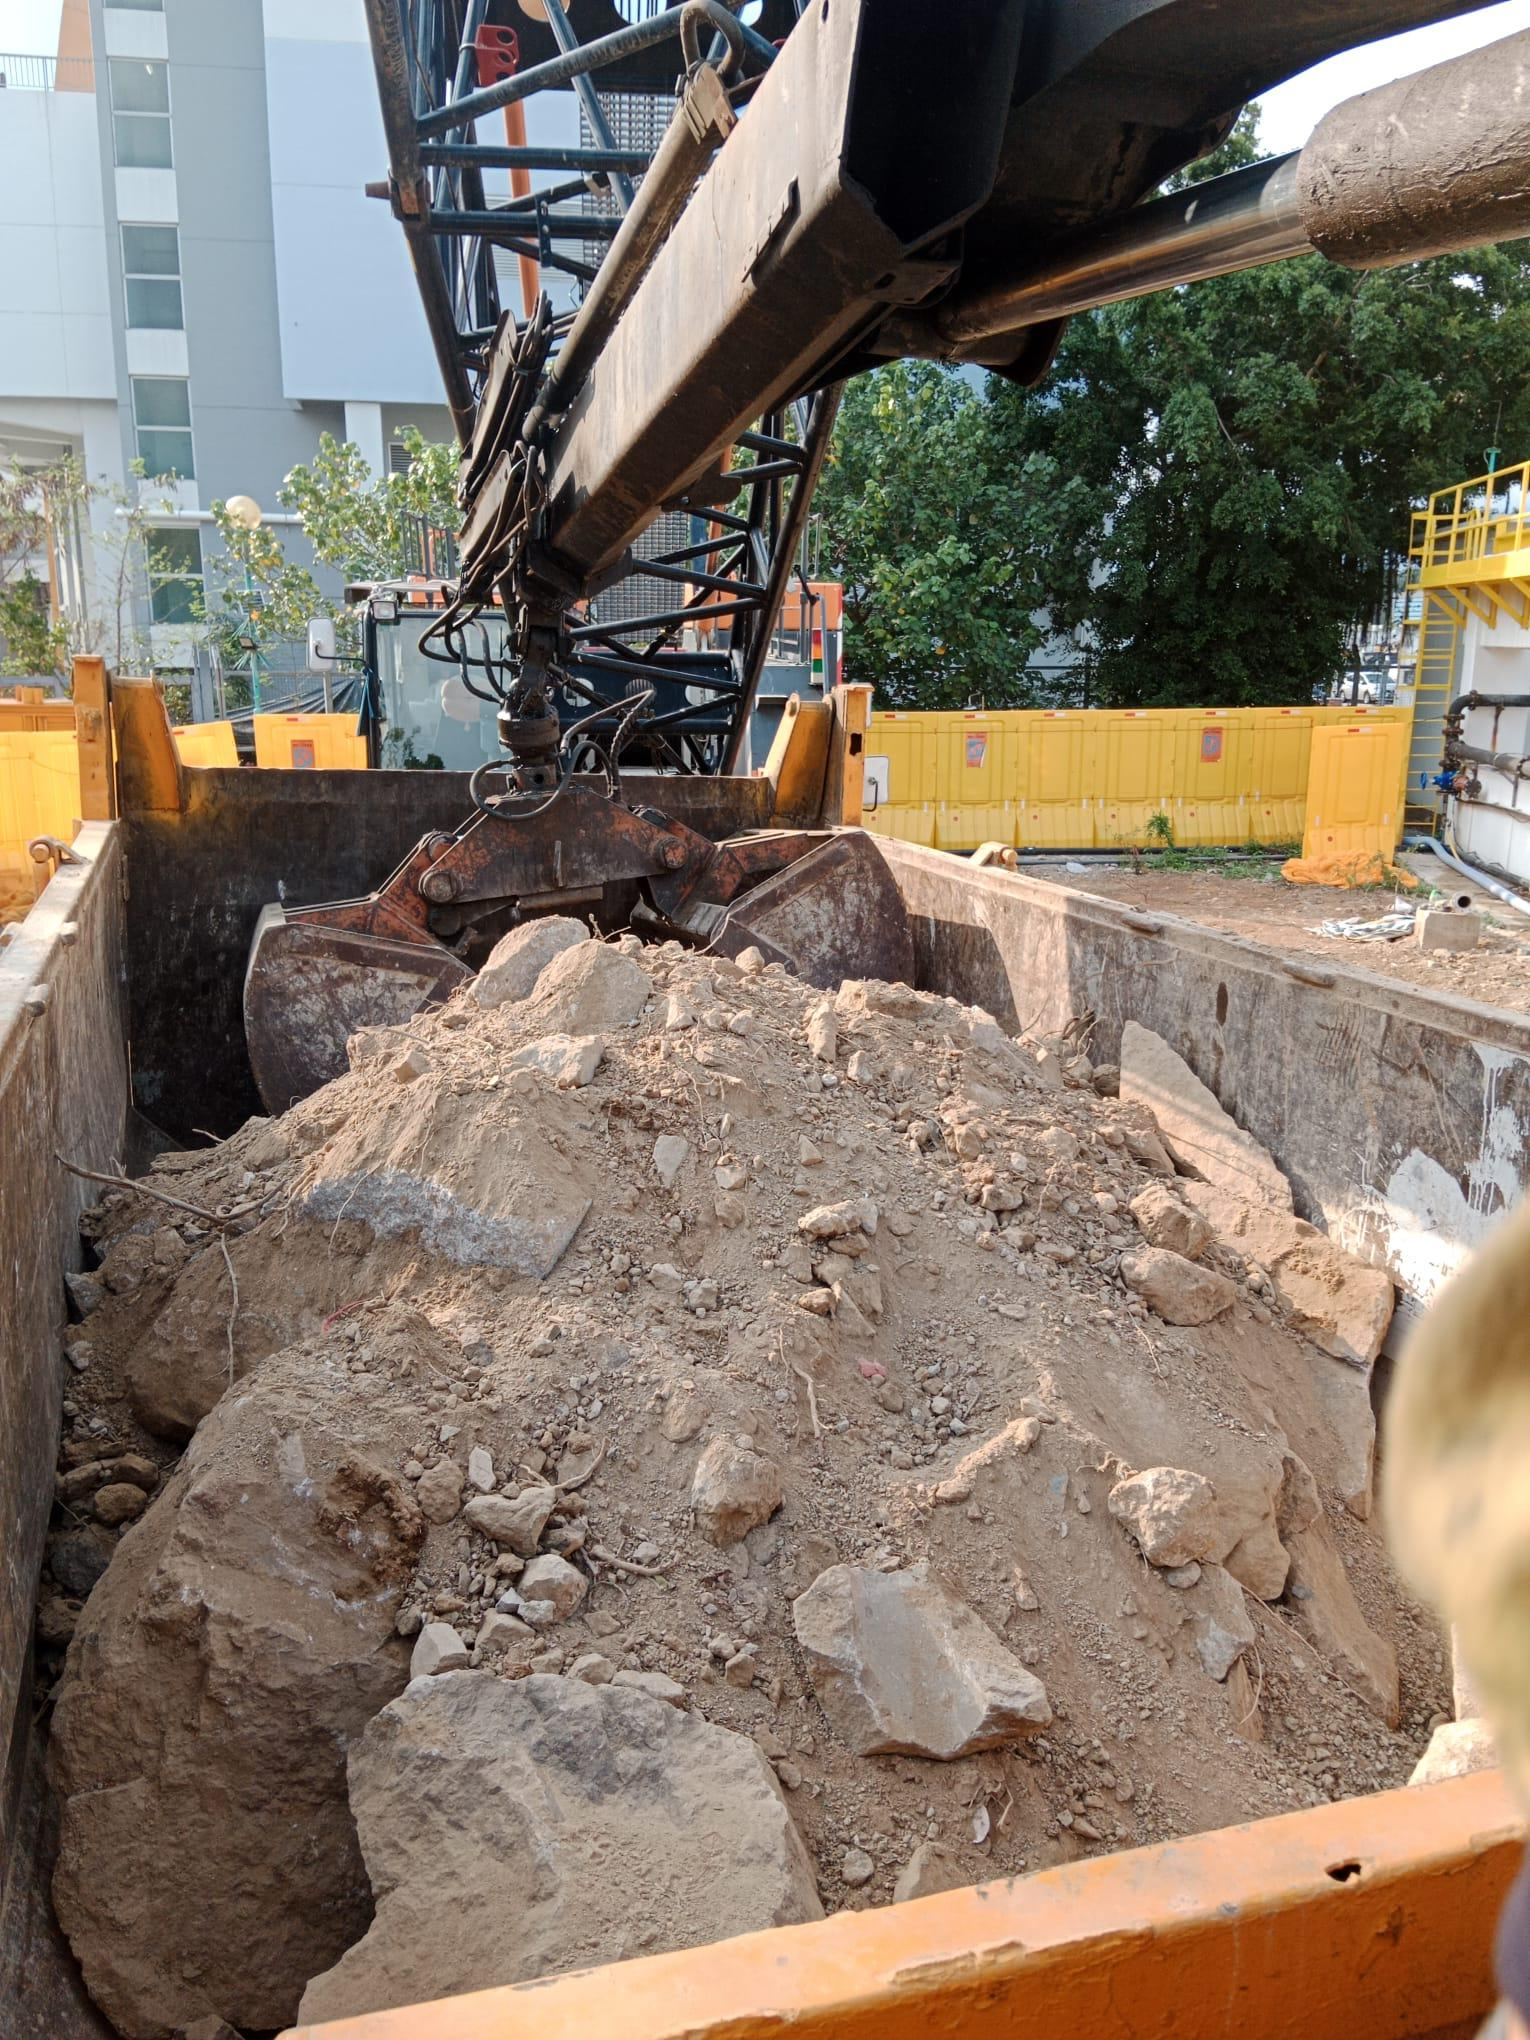dry: (121, 961, 1397, 2006)
